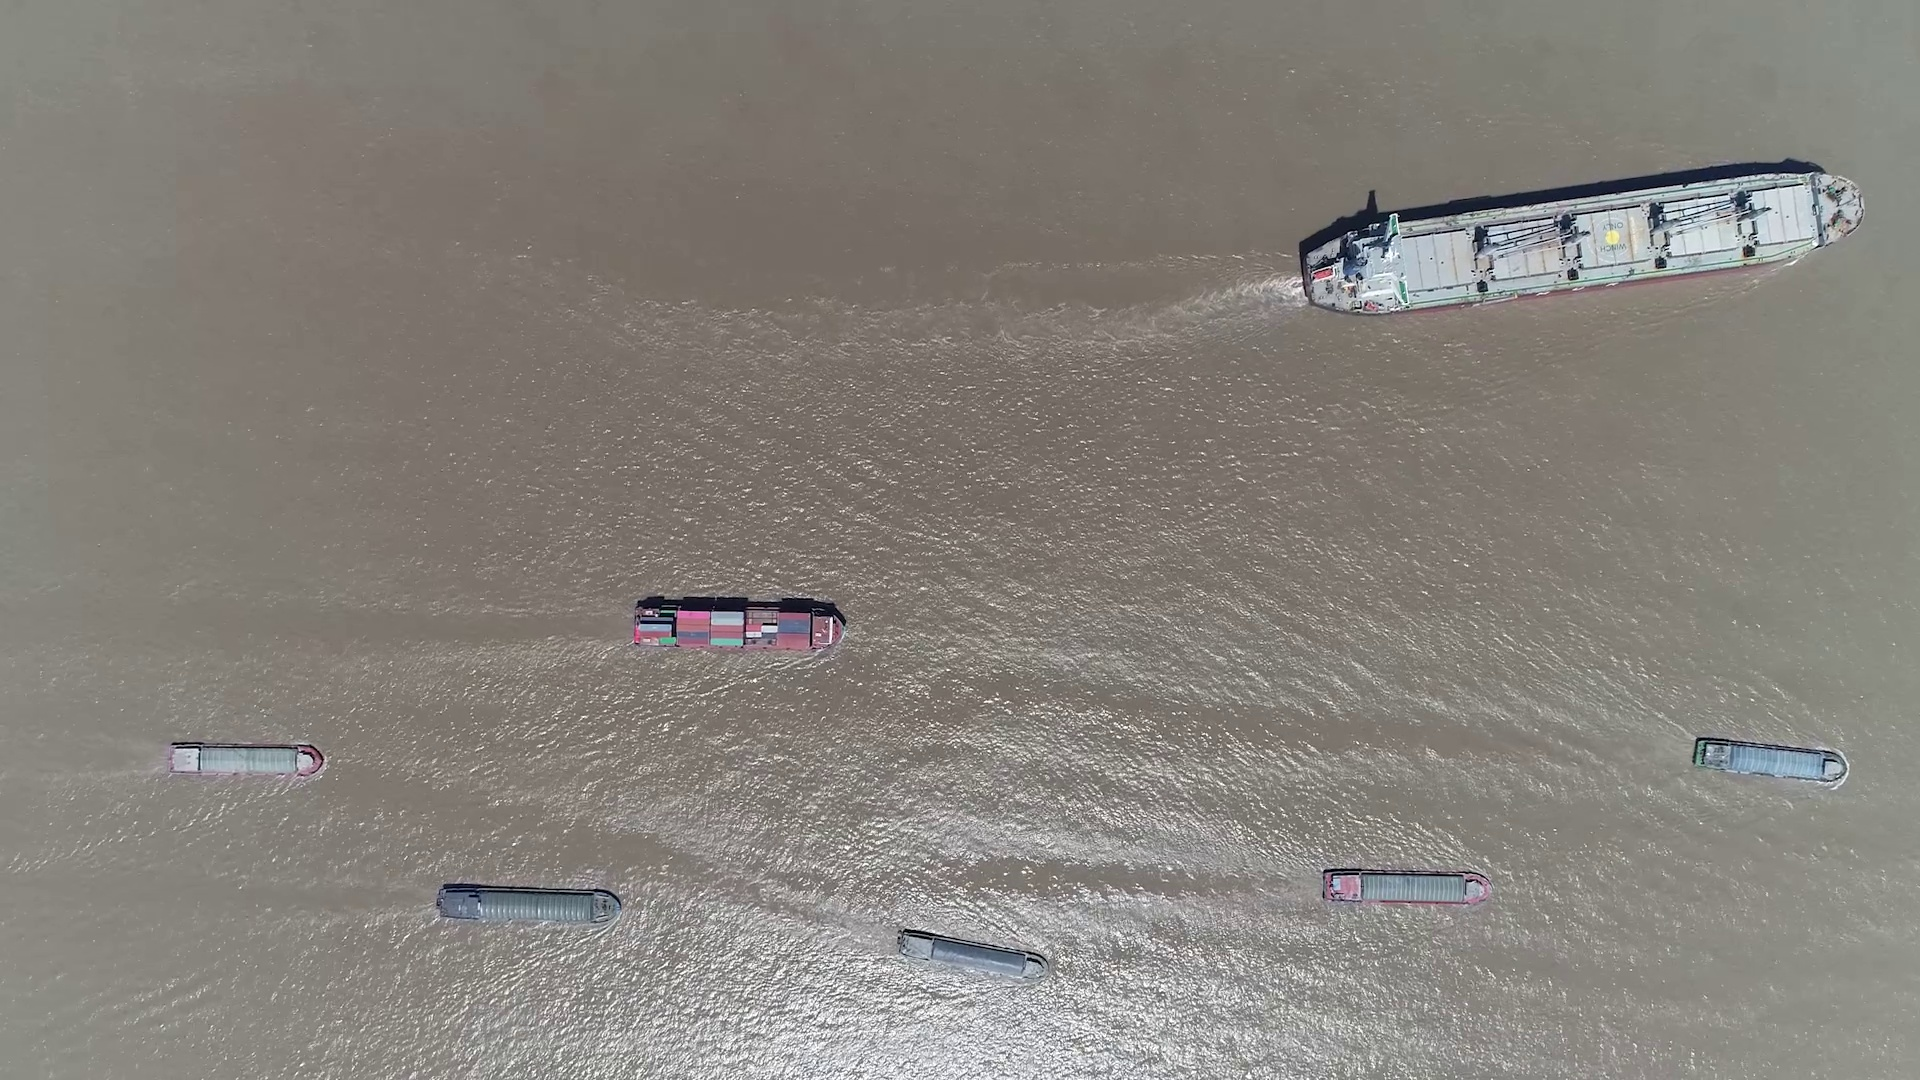ship: (1304, 170, 1863, 313), (630, 603, 845, 651), (1692, 736, 1847, 785), (435, 884, 620, 924), (895, 928, 1044, 978), (1323, 868, 1491, 906), (164, 742, 322, 778)
